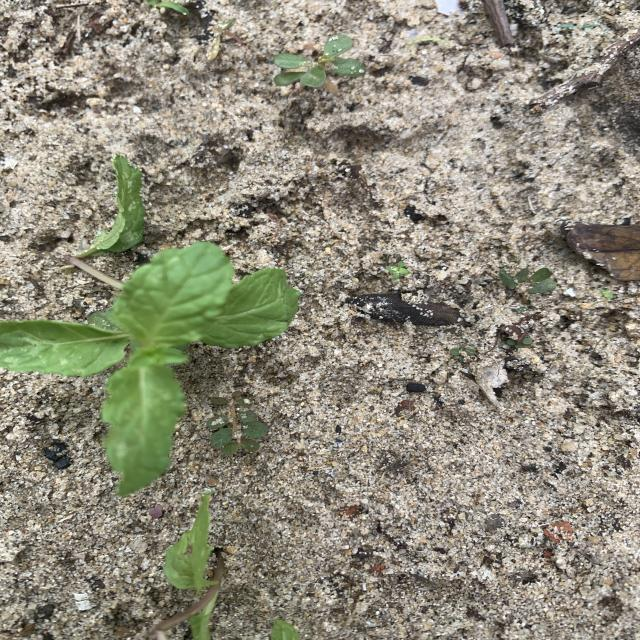crop: (0, 156, 300, 496), (153, 494, 224, 640), (270, 619, 299, 640)
weed: (274, 34, 366, 94), (207, 389, 269, 454), (498, 267, 557, 303), (206, 18, 244, 61), (145, 0, 202, 16), (385, 261, 410, 280), (449, 344, 476, 361), (506, 337, 534, 349), (600, 289, 616, 300)
